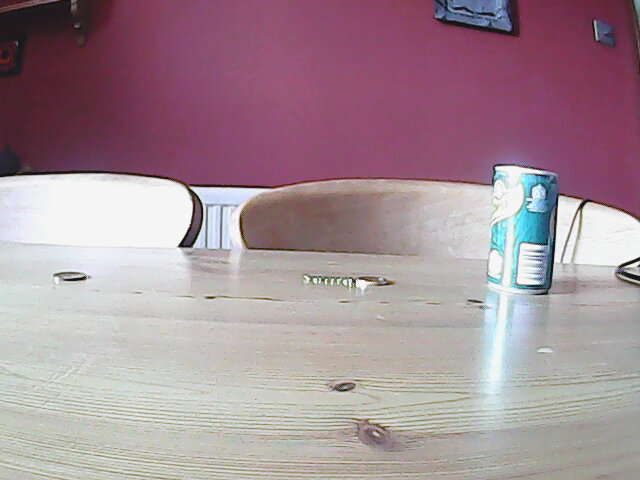Can: (484, 161, 560, 299)
Coin: (49, 269, 90, 284)
Key: (298, 272, 397, 288)
